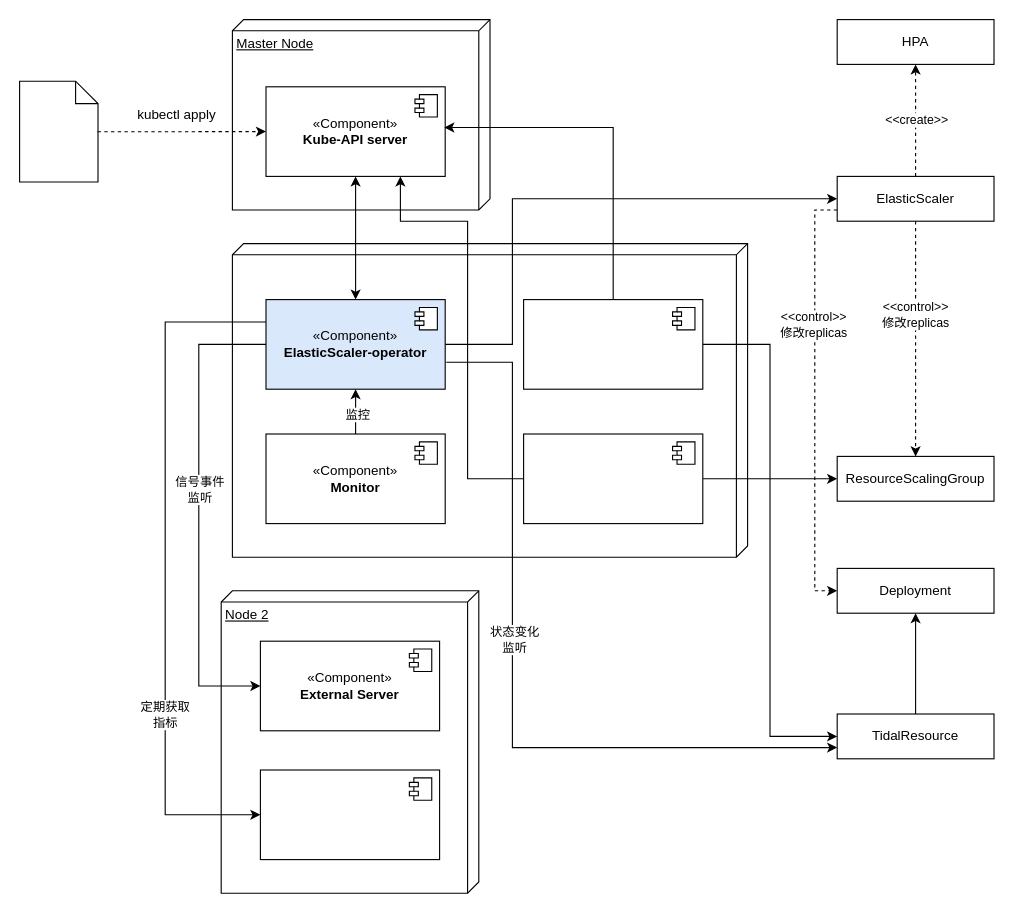
Image size: 1014x913. Some labels were removed from this diagram. The box of each missing label's shape, as (x1, y1, x2, y2) in pixels:
Node 1: (231, 242, 748, 557)
User.yaml: (18, 80, 98, 182)
«Component» External Metrics Server: (259, 769, 440, 860)
«Component» rsg-operator: (522, 433, 703, 524)
«Component» Tide-operator: (522, 298, 703, 389)
